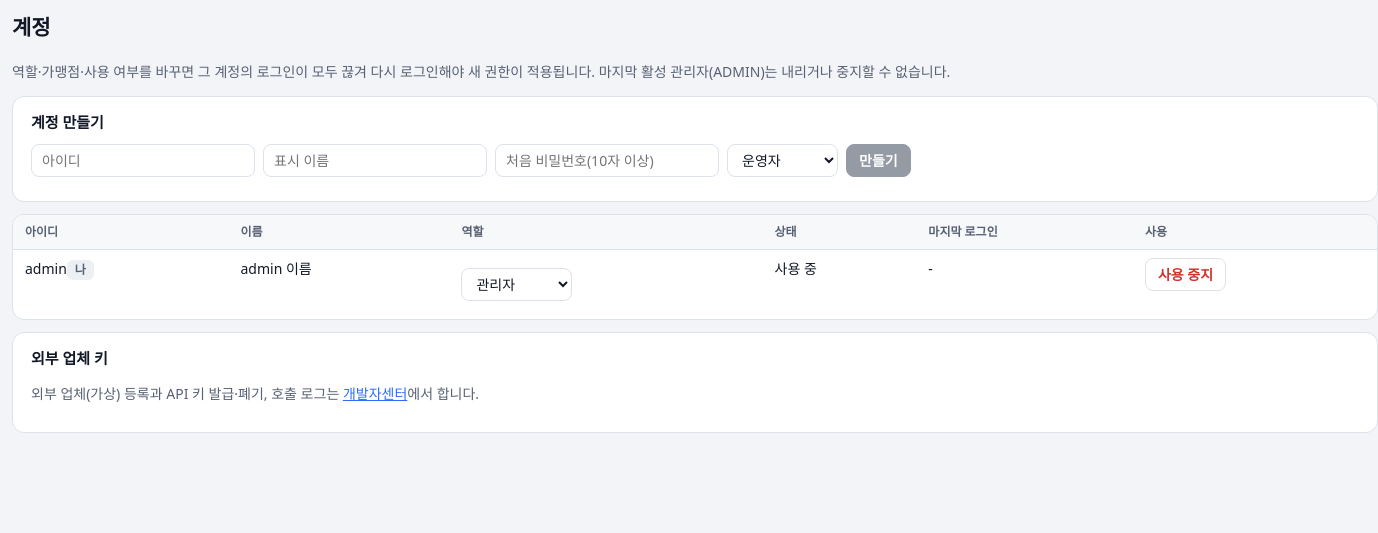
Test: 계정 화면 (ADMIN, 보강 5) › 마지막 활성 ADMIN을 내리면 409 LAST_ADMIN 안내를 보이고 고르던 역할을 서버 값으로 되돌린다
The width and height of the screenshot is (1378, 533).
Step 1. Select "운영자" in the dropdown named "역할" → (517, 284), box [461,268,572,301]
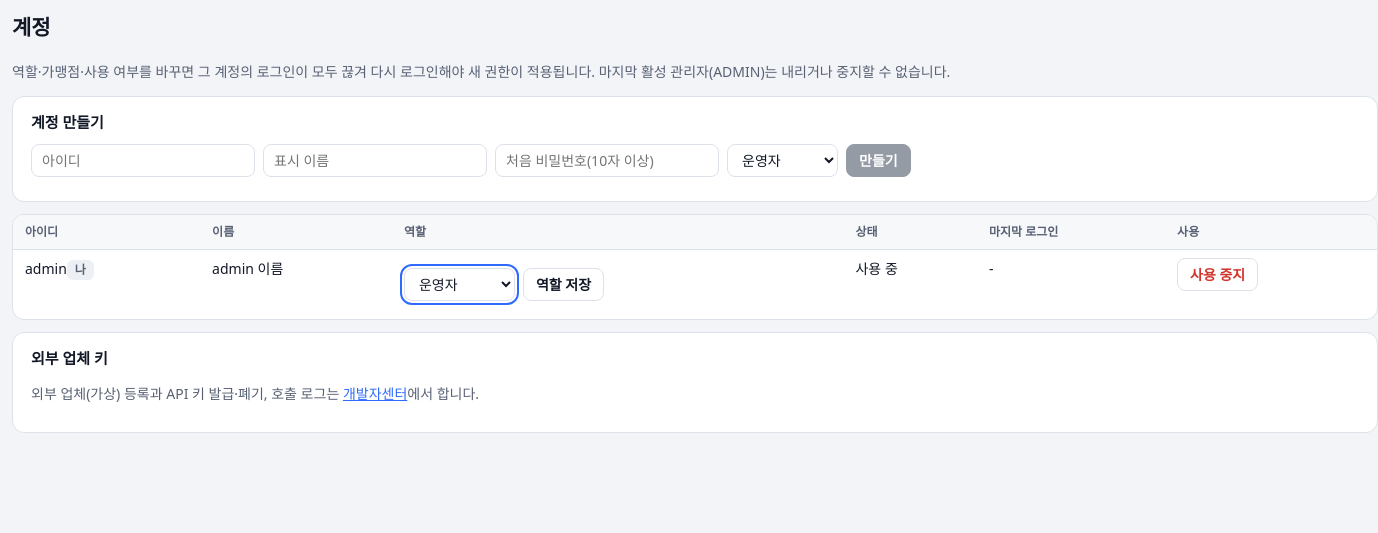
Step 2. Click the button "역할 저장" → (564, 284), box [523,268,604,301]
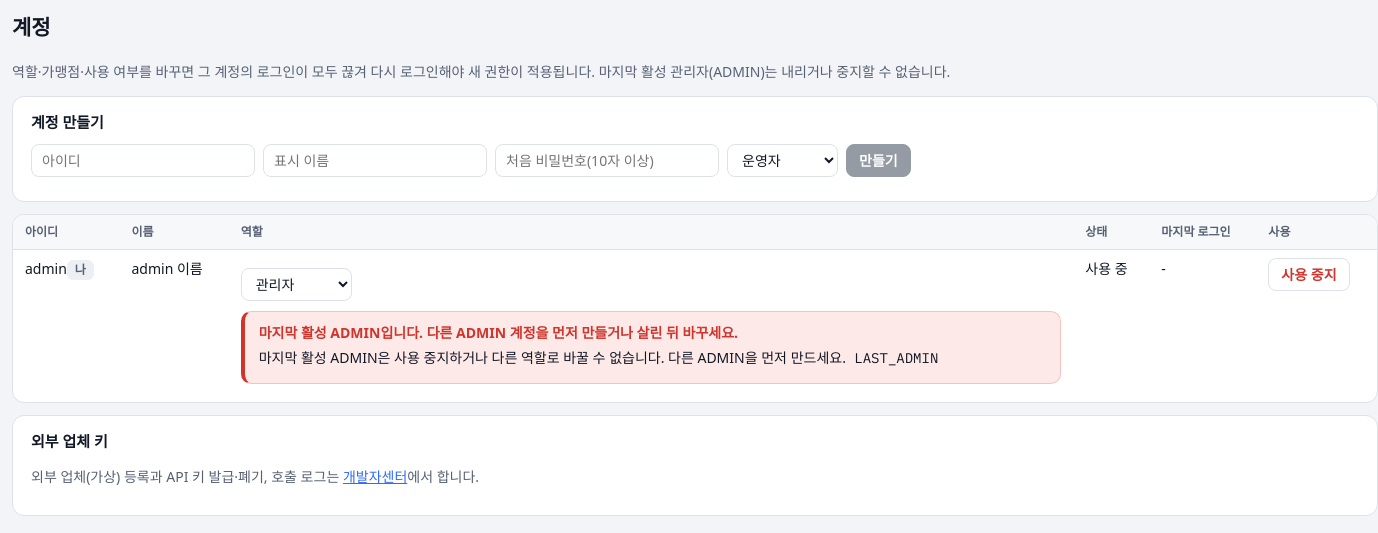
Check: the message shows "마지막 활성 ADMIN입니다. 다른 ADMIN 계정을 먼저 만들거나 살린 뒤 바꾸세요.", box [259,323,738,342]
